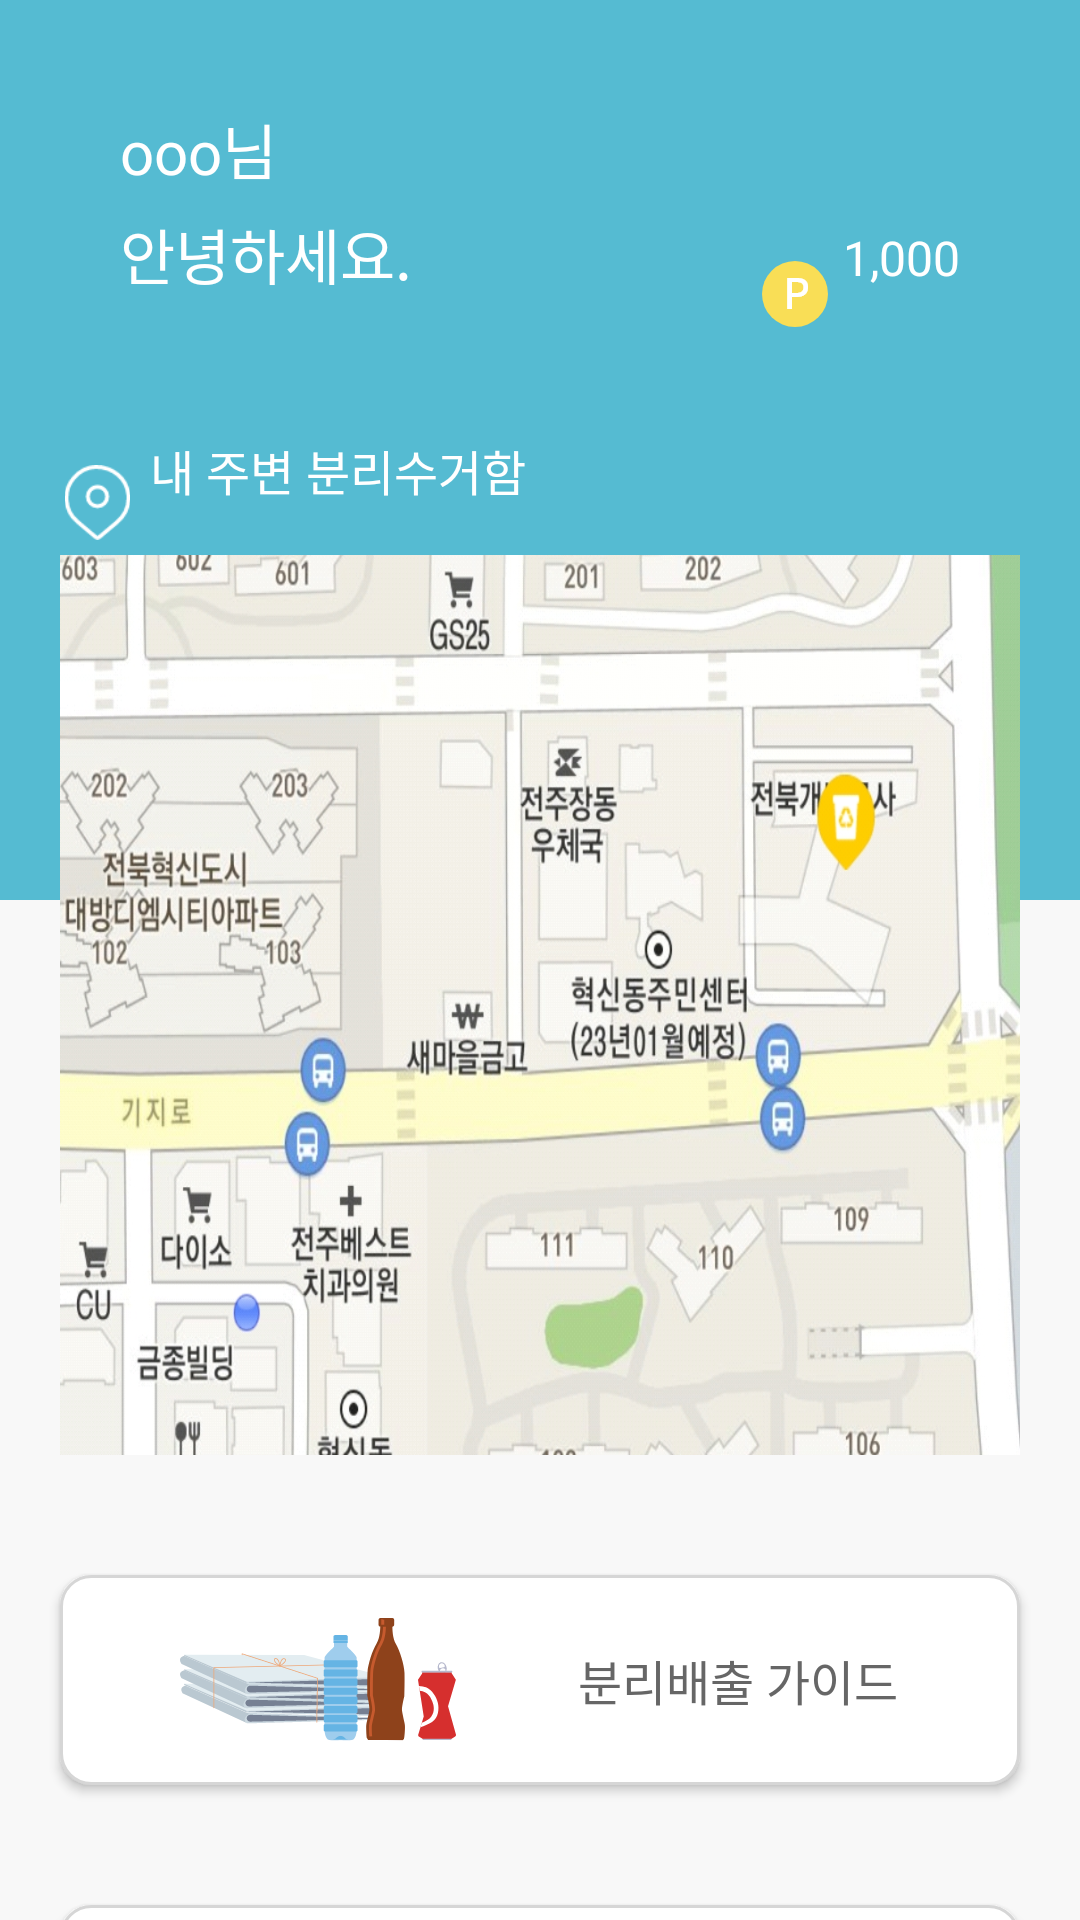

Icon bounding boxes for this 1080 x 1920 phone screenshot, format region(x1, y1, x2, y2):
point: region(762, 261, 828, 327)
spot: region(65, 465, 130, 540)
